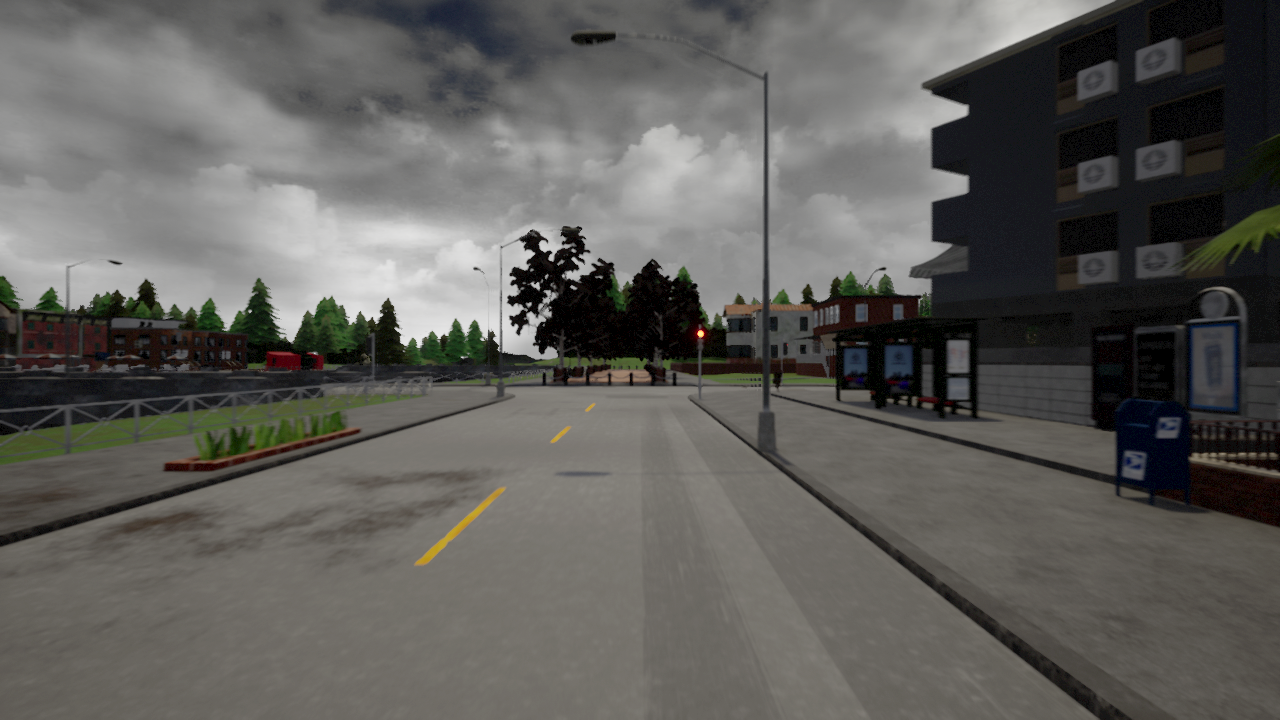red: (695, 330, 705, 351)
